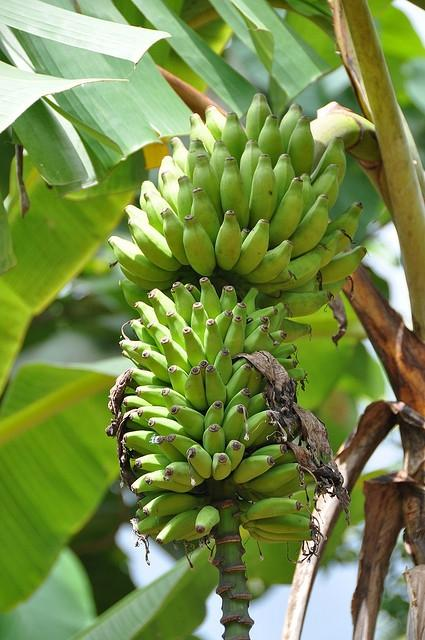banana: (108, 236, 194, 282), (128, 216, 184, 271), (266, 176, 304, 252), (286, 193, 328, 261), (246, 154, 278, 232), (280, 242, 328, 292), (242, 240, 294, 284), (220, 156, 250, 232), (193, 154, 224, 226), (255, 290, 334, 318), (120, 263, 196, 291), (183, 214, 217, 276), (234, 219, 269, 275), (214, 210, 242, 277), (310, 136, 346, 188), (240, 463, 300, 493), (319, 246, 367, 283), (160, 207, 190, 265), (192, 187, 220, 249), (286, 115, 314, 177), (148, 418, 204, 448), (318, 229, 358, 269), (144, 190, 178, 237), (155, 510, 202, 544), (322, 202, 364, 240), (239, 139, 263, 204), (272, 153, 296, 217), (241, 498, 302, 523), (258, 114, 285, 170), (222, 112, 248, 170), (144, 492, 204, 516), (238, 410, 275, 448), (244, 514, 314, 534), (260, 471, 315, 496), (224, 363, 252, 412), (312, 164, 340, 212), (257, 368, 308, 394), (231, 274, 297, 294), (246, 93, 272, 143), (161, 336, 193, 376), (147, 288, 178, 329), (161, 388, 198, 422), (233, 455, 274, 485), (170, 405, 205, 440), (279, 103, 303, 154), (243, 524, 313, 541), (313, 276, 355, 304), (184, 368, 210, 412), (190, 114, 216, 158), (119, 339, 158, 368), (118, 278, 153, 310), (161, 434, 204, 460), (172, 282, 196, 328), (145, 470, 195, 492), (182, 327, 208, 368), (186, 445, 212, 486), (221, 405, 244, 451), (166, 310, 190, 352), (134, 301, 160, 339), (204, 318, 225, 365), (142, 350, 171, 384), (123, 430, 164, 454), (163, 462, 204, 486), (200, 277, 222, 320), (298, 173, 316, 225), (205, 364, 226, 408), (210, 140, 232, 182), (158, 156, 180, 198), (223, 388, 251, 421), (161, 170, 180, 217), (191, 302, 209, 351), (224, 316, 245, 358), (131, 472, 173, 493), (147, 321, 172, 356), (246, 425, 278, 452), (135, 386, 174, 408), (155, 436, 188, 462), (178, 176, 196, 223), (130, 368, 172, 388), (202, 423, 226, 458), (278, 318, 312, 342), (242, 324, 269, 354), (138, 514, 178, 534), (204, 105, 226, 141), (130, 319, 157, 346), (214, 310, 234, 346), (135, 453, 172, 472), (214, 349, 233, 386), (195, 506, 220, 534), (224, 439, 245, 472), (168, 365, 188, 399), (140, 180, 161, 212), (170, 137, 188, 173), (124, 204, 152, 227), (138, 406, 178, 422), (203, 401, 224, 431), (249, 444, 288, 460), (240, 286, 260, 316), (269, 302, 289, 332), (244, 316, 268, 341), (246, 392, 268, 419), (212, 452, 232, 480), (264, 330, 287, 354), (130, 411, 156, 432), (287, 274, 317, 292), (245, 366, 261, 399), (220, 286, 238, 314), (246, 306, 278, 321), (123, 396, 156, 410), (232, 303, 247, 332), (270, 344, 298, 358), (186, 528, 212, 542), (197, 360, 209, 390), (275, 358, 298, 372), (186, 284, 202, 302), (135, 508, 150, 520), (241, 228, 250, 244)
